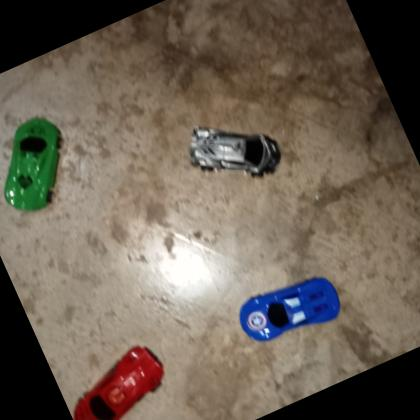Car: (174, 96, 290, 206), (230, 260, 349, 357), (0, 106, 90, 223), (56, 338, 181, 420)
